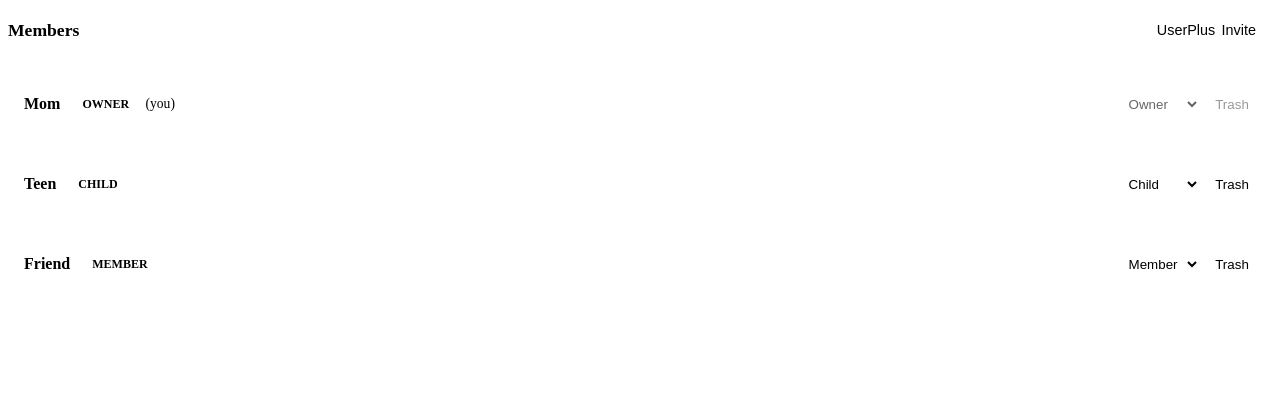
MemberList › requires a valid email before the invite can be submitted
Click the button with test id "show-invite-button".
click(1206, 30)  # box [1141,8,1272,52]
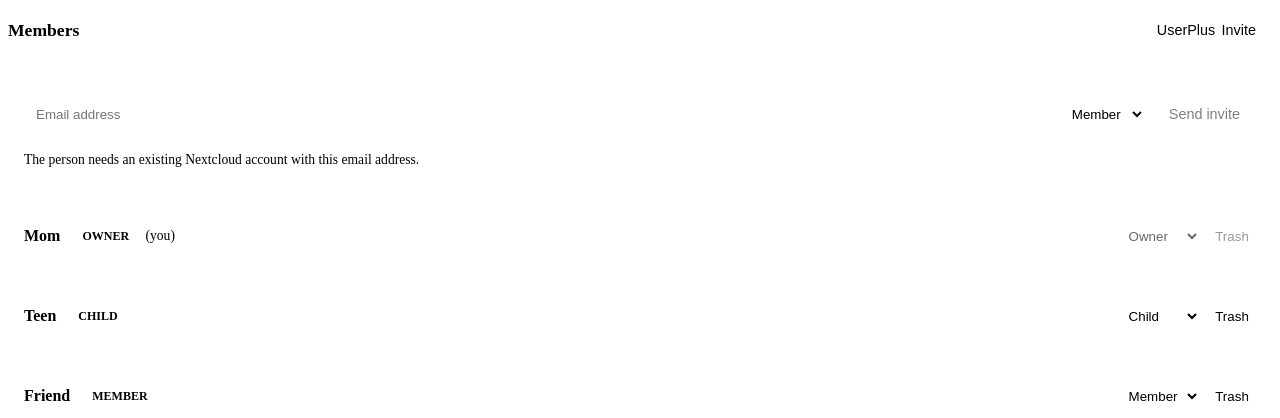
Check: the form with test id "invite-form" is shown, box [8,68,1272,184]
Type "not-an-email" into the field with test id "invite-email-input".
click(538, 114); type("not-an-email")  # box [24,84,1052,144]
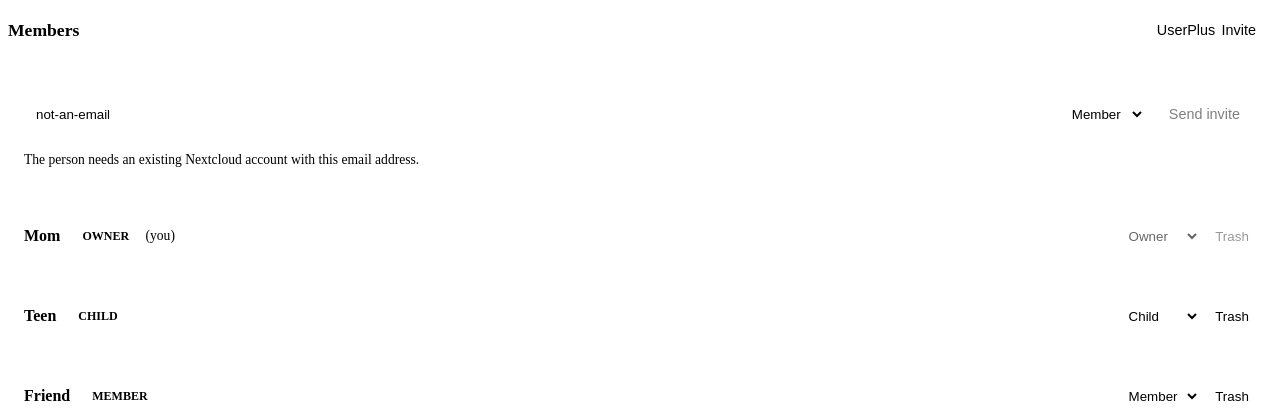
Check: the button with test id "invite-submit-button" is disabled, box [1153,84,1256,144]
Replace the text in the field with test id "invite-email-input" with "bob@example.org" at coordinates (538, 114), box [24,84,1052,144]
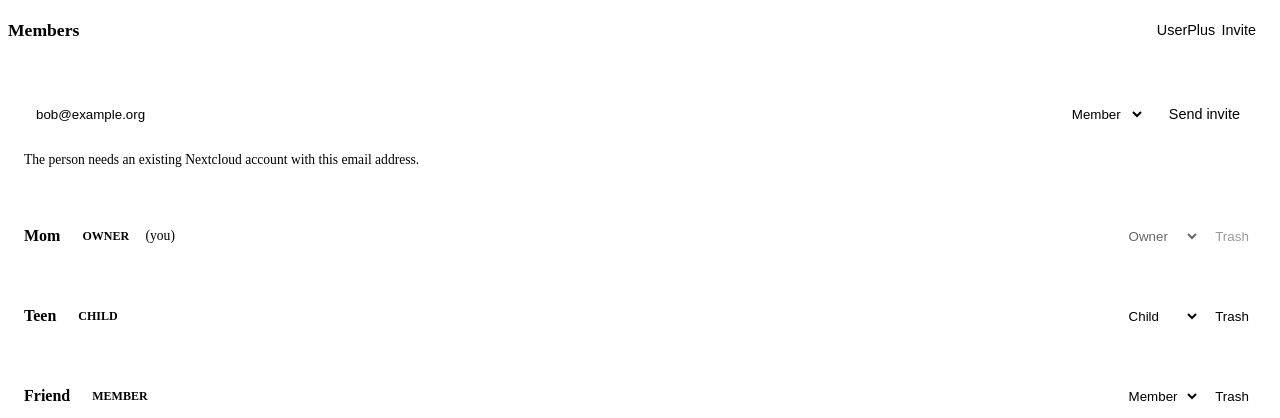
Check: the button with test id "invite-submit-button" is enabled, box [1153,84,1256,144]
